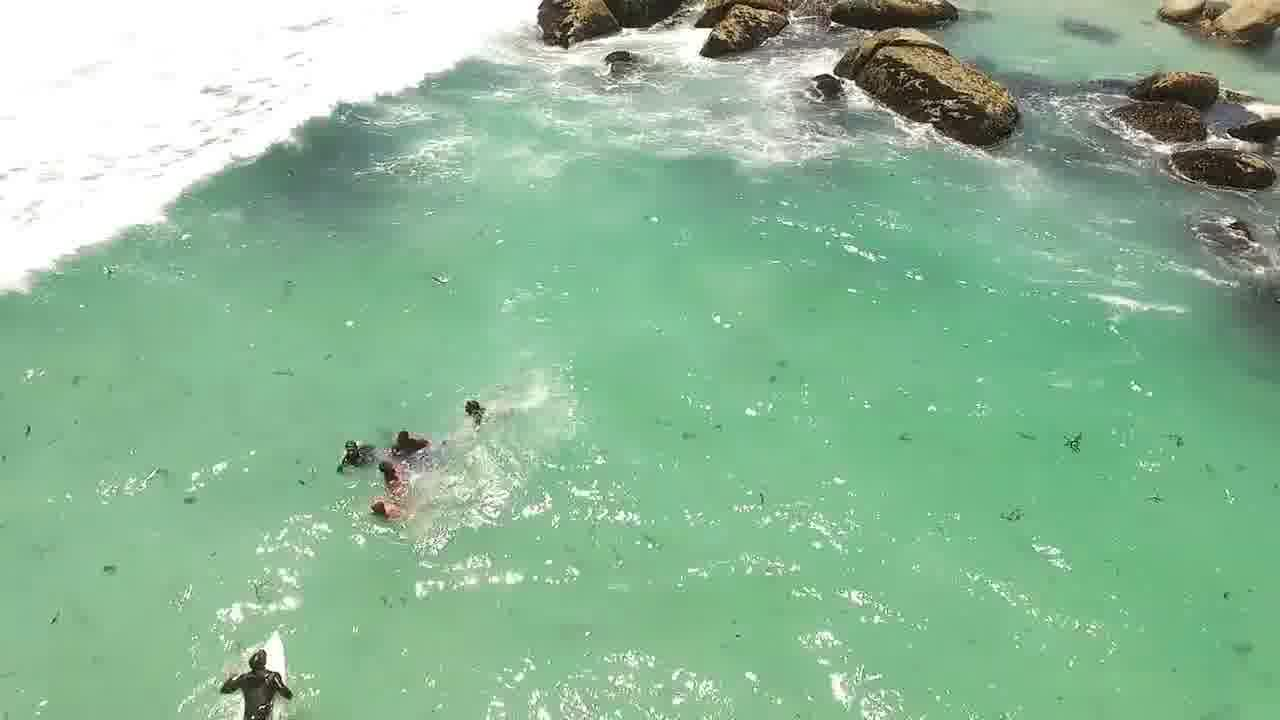swimmer: (448, 375, 495, 429), (228, 643, 277, 692), (389, 416, 416, 459), (358, 493, 399, 517), (330, 430, 361, 457), (372, 451, 394, 475)
